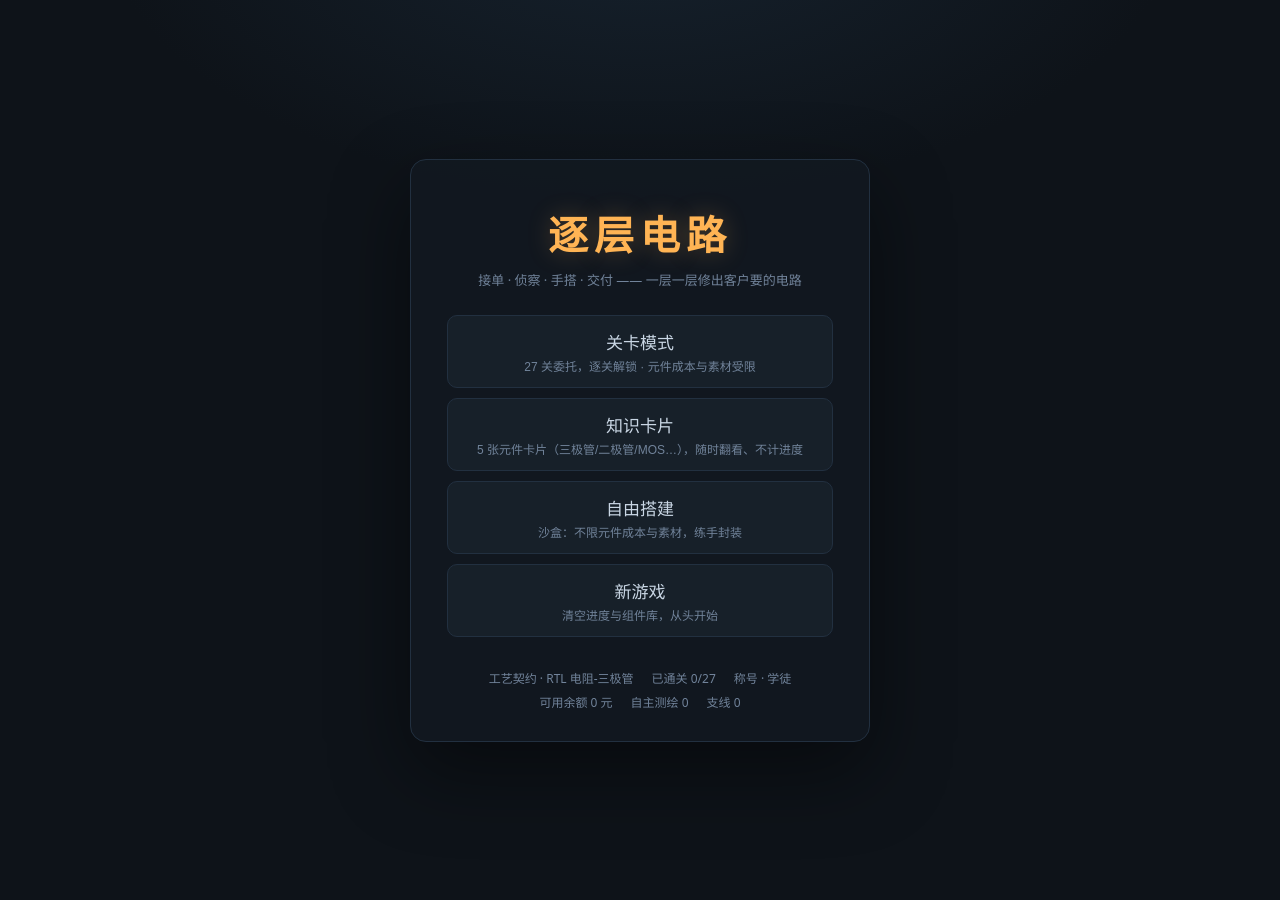
Scenario: 游戏壳：主菜单 / 关卡地图 / 会话恢复 › 知识卡片与关卡模式并列：关卡链第一关是非门；元件卡片全开放（无解锁链、不计进度）
// 关卡模式：教学关不在链上，非门是第一关（开放），与门锁定
Click the button "关卡模式 27 关委托，逐关解锁 · 元件成本与素材受限".
click(640, 351)  # box [447,314,833,388]
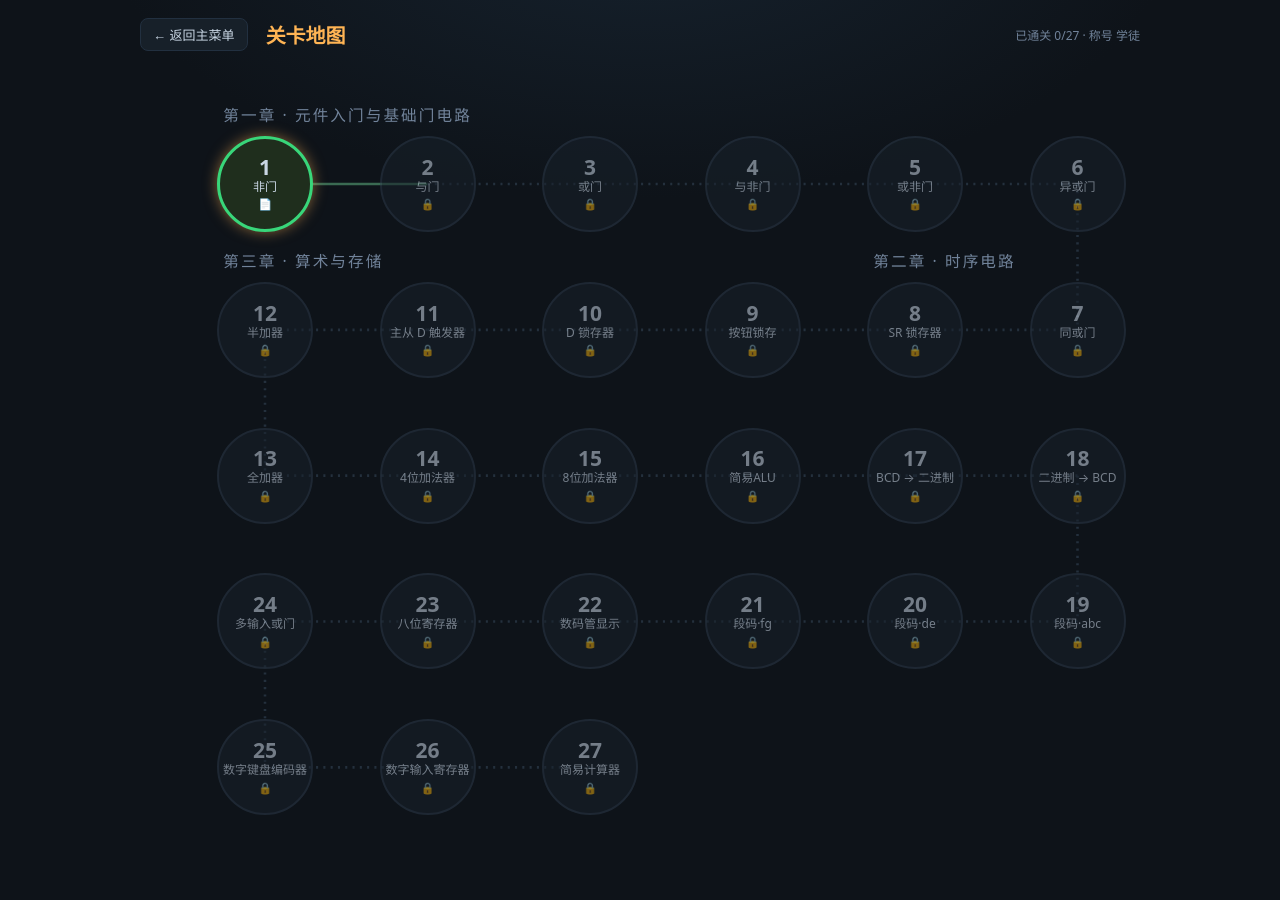
Expected: the text "认识三极管" is not shown
Expected: the button "1 非门 📄" is enabled, [217,136,313,232]
Expected: the button "2 与门 🔒" is disabled, [380,136,476,232]
Click the button "← 返回主菜单".
click(194, 34)  # box [140,18,248,51]
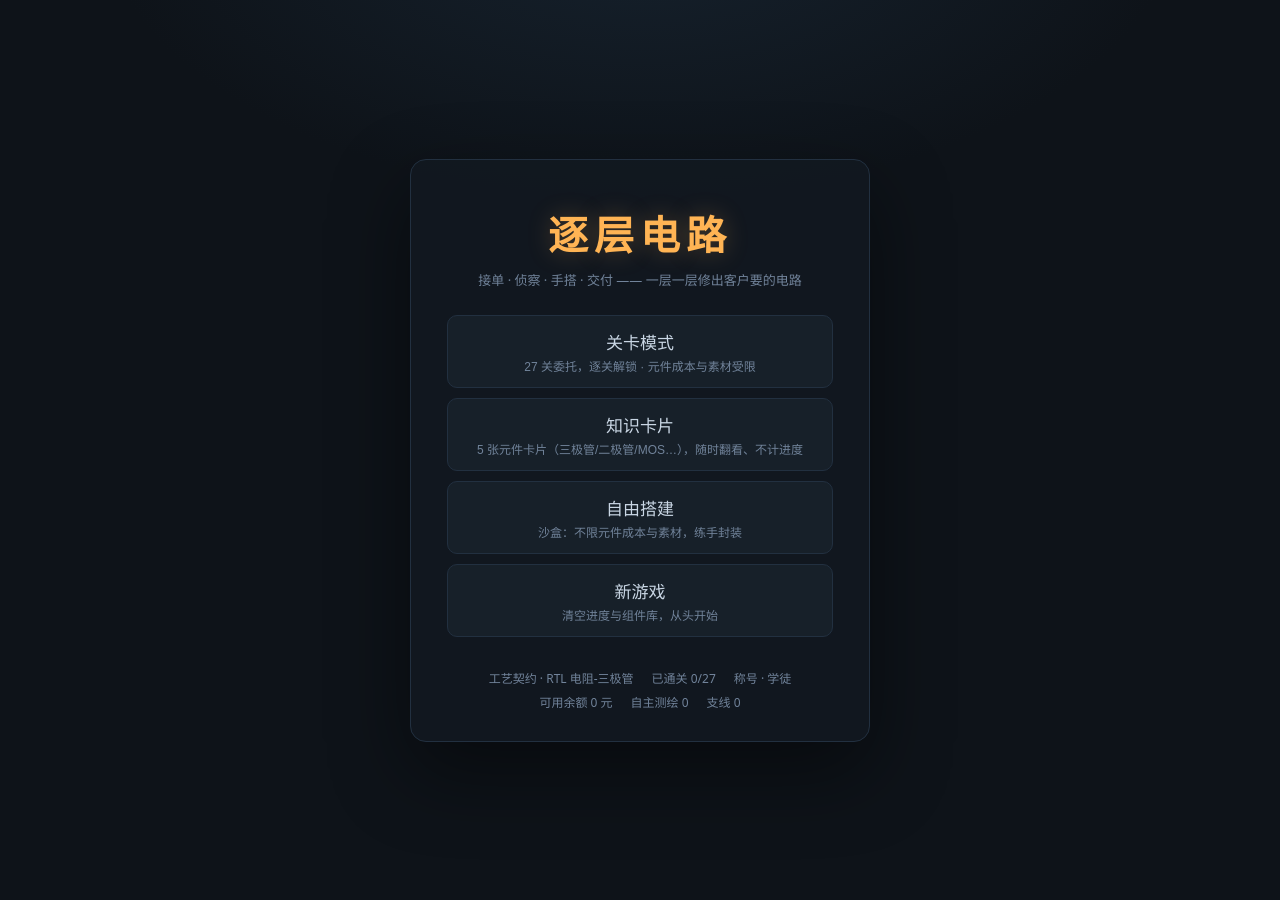
// 知识卡片：5 张元件卡全部开放（不评星、不锁链、不计进度）
Click the button "知识卡片 5 张元件卡片（三极管/二极管/MOS…），随时翻看、不计进度".
click(640, 434)  # box [447,398,833,470]
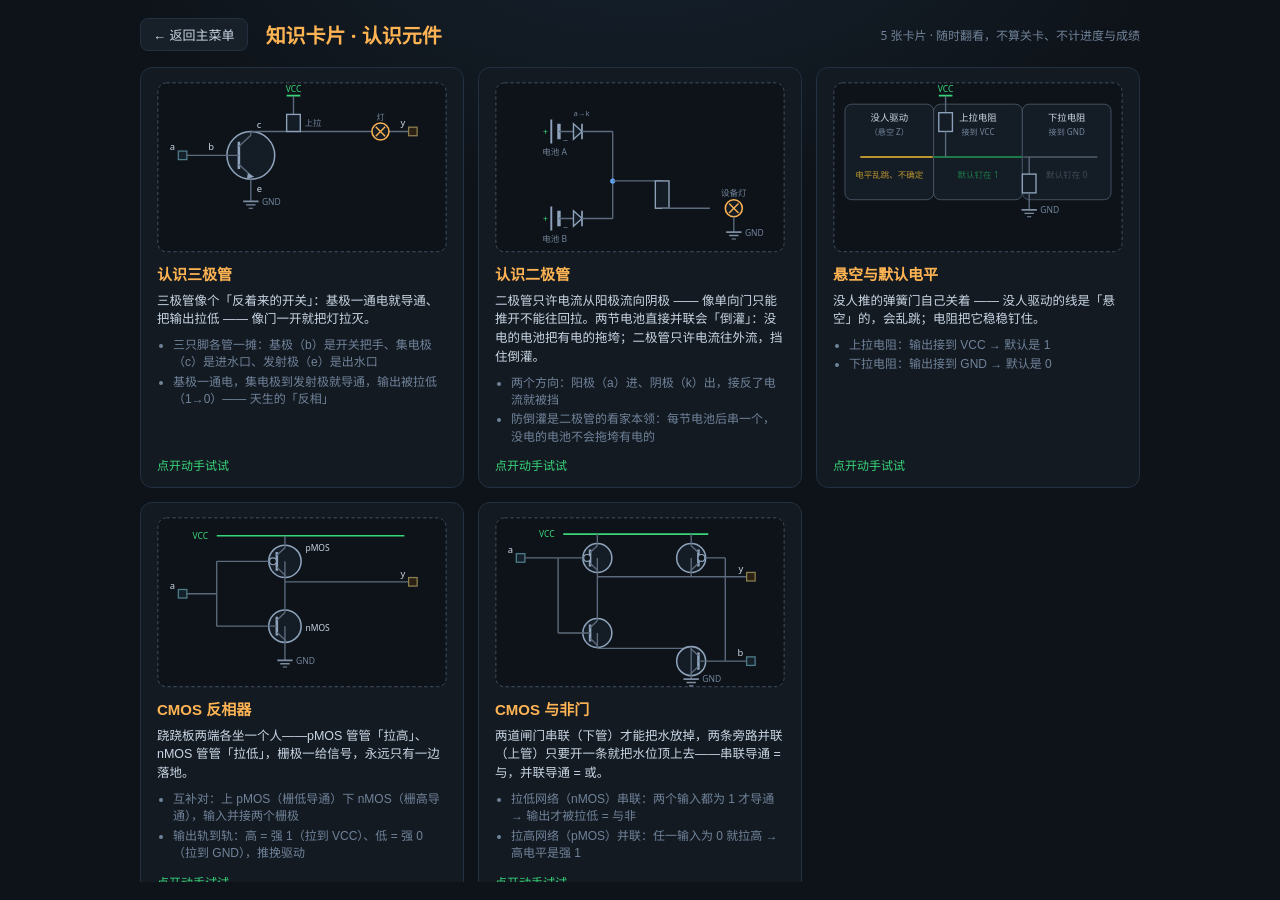
Expected: the heading "知识卡片 · 认识元件" is shown, [266,20,442,49]
Expected: the text "5 张卡片 · 随时翻看，不算关卡、不计进度与成绩" is shown, [880,26,1140,44]
Expected: the button "认识三极管" is enabled, [140,67,464,488]
